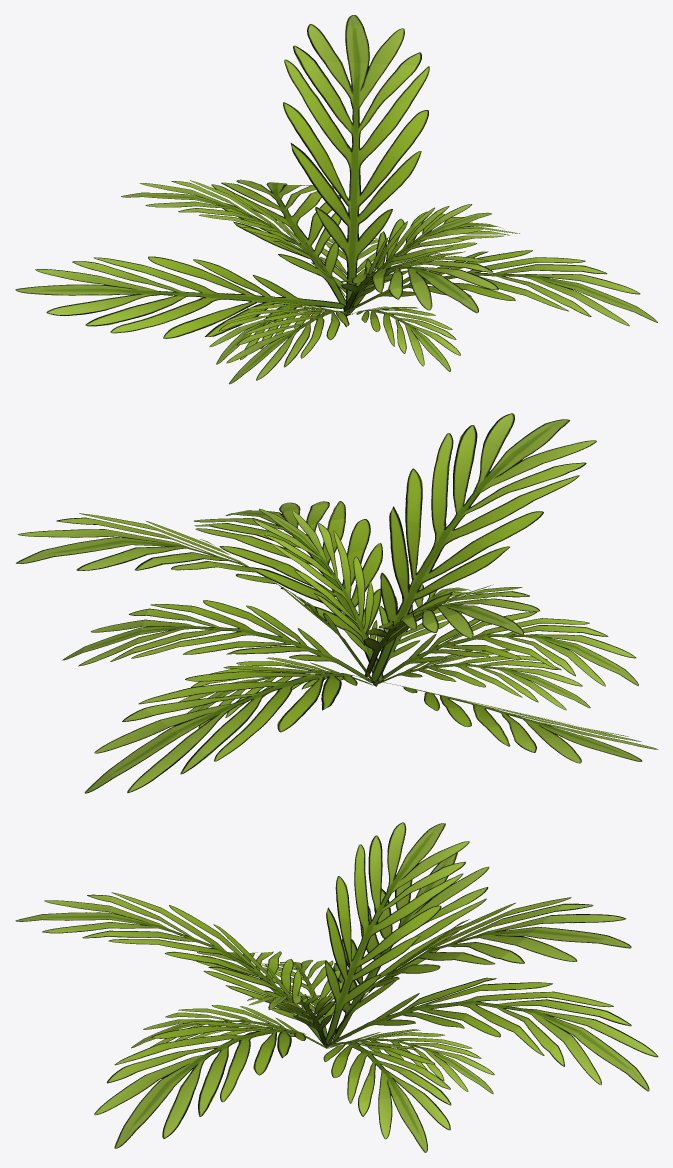
File: Moonset_FBX_foliage_03.fbx
The picture shows the model from 3 angles, top to bottom: view 1: azimuth 30°, elevation 25°; view 2: azimuth 150°, elevation 25°; view 3: azimuth 270°, elevation 25°; orthographic projection. The views are drawn at different scales.
Parts seen in each view (by area): view 1: Foliage_03; view 2: Foliage_03; view 3: Foliage_03.
Boxes of the visible parts, bbox=[...] form: Foliage_03: bbox=[15, 15, 657, 384]; Foliage_03: bbox=[16, 413, 658, 793]; Foliage_03: bbox=[15, 822, 658, 1152].
Size of the model in its own units: 3.93 by 1.29 by 4.08.
